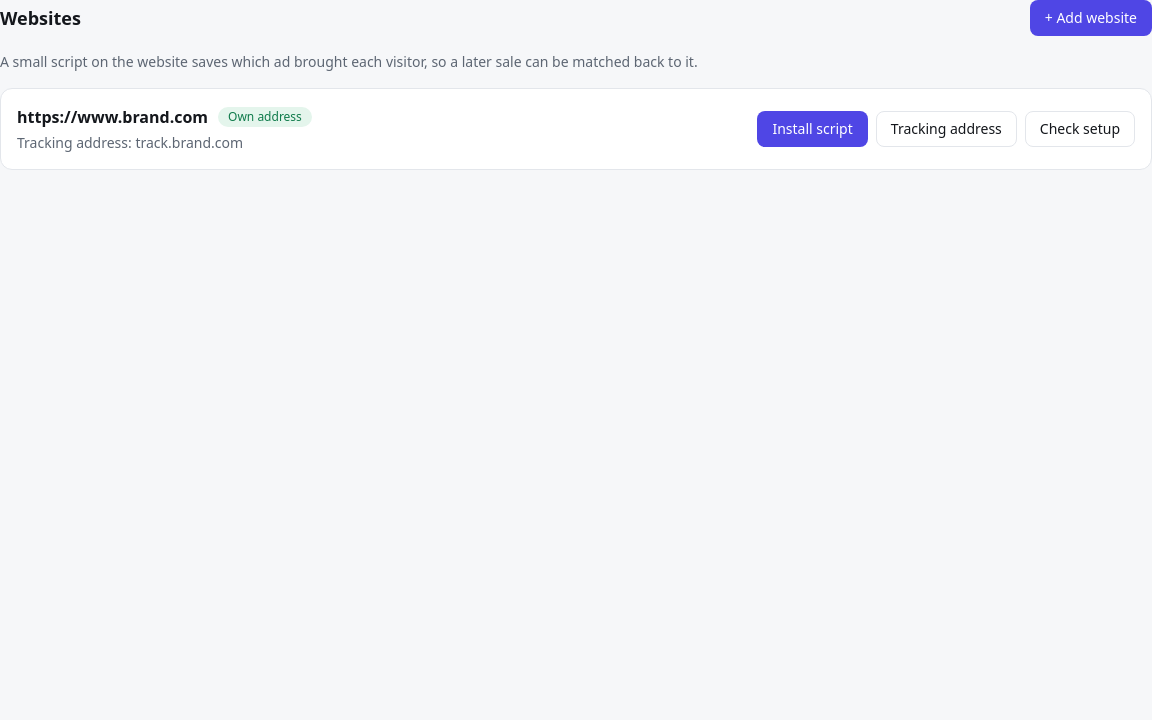
Scenario: Website tab › runs the setup check and lists what passed and what needs fixing
Click the button "Check setup". click: (1080, 129)
box: [1025,111,1135,147]
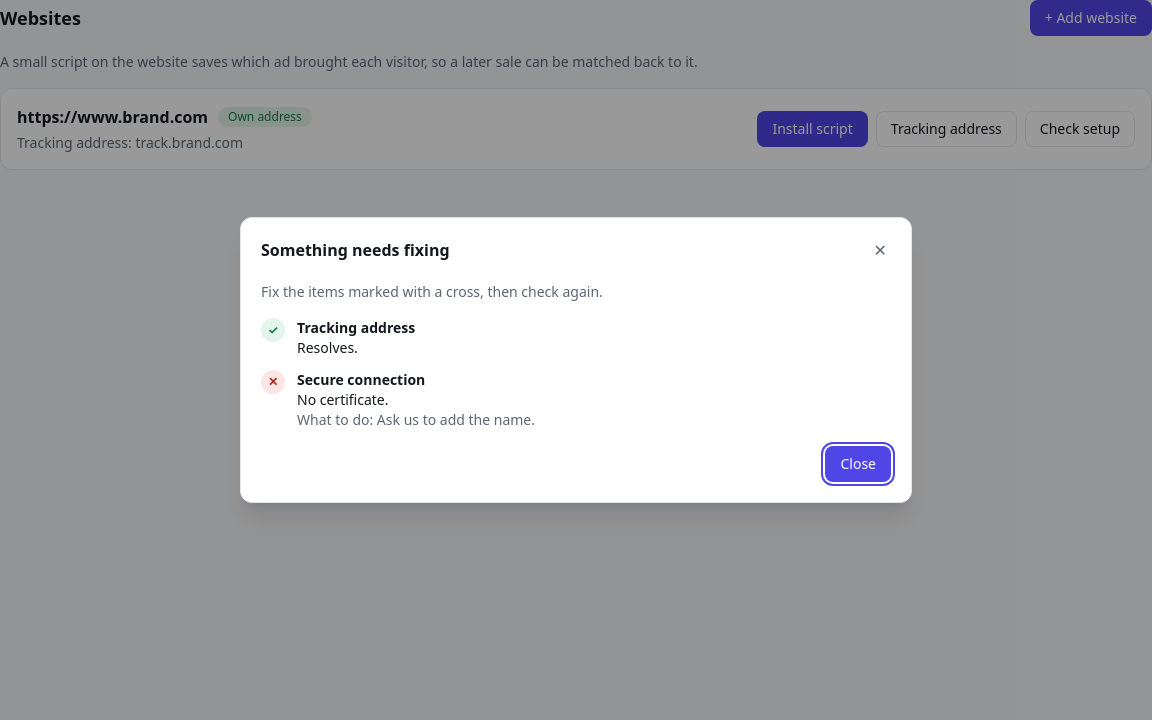
Now the picture named "passed" is shown, box [261,318,285,342]
Now the picture named "failed" is shown, box [261,370,285,394]
Now the dialog "Something needs fixing" shows "What to do: Ask us to add the name.", box [240,217,912,503]
